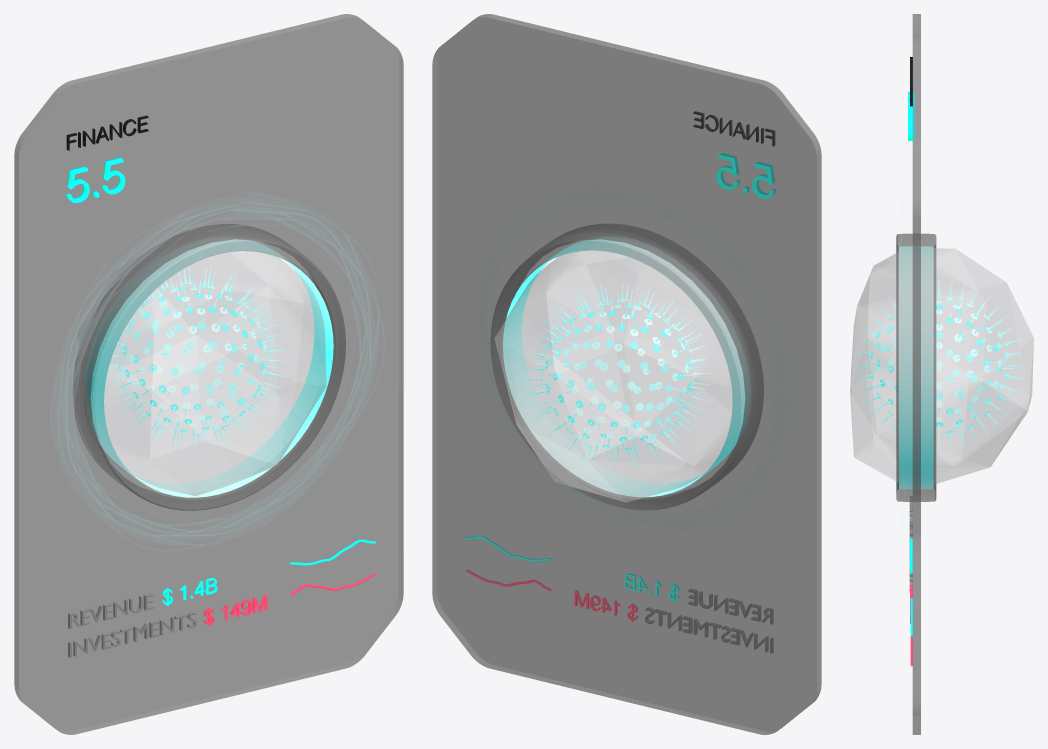
The picture shows the model from 3 angles, left to right: view 1: azimuth 30°, elevation 25°; view 2: azimuth 150°, elevation 25°; view 3: azimuth 270°, elevation 25°; orthographic projection. The views are drawn at different scales.
Visible parts, largest first — view 1: baseGreen.004, Glass.005, Corner.004, neon-corner.005, baseCorner.004, neon-sphereBase.004, Text.030, neon-sphere.006, Text.031, neon-rimGreen.004, Text.029, Text.032 (+1 smaller); view 2: baseGreen.004, Glass.005, Corner.004, neon-corner.005, baseCorner.004, neon-sphere.006, Text.030, Text.031, Text.029, Text.032; view 3: Glass.005, Corner.004, neon-corner.005, baseCorner.004, neon-sphere.006, neon-sphereBase.004.
Boxes of the visible parts, x1=… form: baseGreen.004: x1=14, y1=14, x2=403, y2=734; Glass.005: x1=104, y1=251, x2=326, y2=495; Corner.004: x1=74, y1=224, x2=345, y2=510; neon-corner.005: x1=85, y1=237, x2=333, y2=497; baseCorner.004: x1=14, y1=14, x2=403, y2=734; neon-sphereBase.004: x1=117, y1=282, x2=270, y2=434; Text.030: x1=68, y1=611, x2=196, y2=657; neon-sphere.006: x1=112, y1=266, x2=278, y2=449; Text.031: x1=65, y1=157, x2=125, y2=202; neon-rimGreen.004: x1=66, y1=206, x2=370, y2=536; Text.029: x1=68, y1=593, x2=153, y2=628; Text.032: x1=66, y1=115, x2=148, y2=150; baseGreen.004: x1=432, y1=14, x2=821, y2=734; Glass.005: x1=494, y1=251, x2=732, y2=502; Corner.004: x1=490, y1=224, x2=763, y2=510; neon-corner.005: x1=503, y1=237, x2=750, y2=497; baseCorner.004: x1=432, y1=14, x2=821, y2=734; neon-sphere.006: x1=524, y1=283, x2=711, y2=469; Text.030: x1=645, y1=607, x2=773, y2=653; Text.031: x1=716, y1=153, x2=775, y2=198; Text.029: x1=688, y1=589, x2=773, y2=624; Text.032: x1=693, y1=111, x2=774, y2=146; Glass.005: x1=850, y1=248, x2=1033, y2=483; Corner.004: x1=896, y1=233, x2=936, y2=501; neon-corner.005: x1=899, y1=246, x2=933, y2=489; baseCorner.004: x1=912, y1=14, x2=920, y2=734; neon-sphere.006: x1=853, y1=280, x2=1024, y2=451; neon-sphereBase.004: x1=870, y1=295, x2=1007, y2=436.
Bounding box in the file's own units: 1.47 × 2.38 × 0.666.
Materials: 8 (1 with a texture image).
